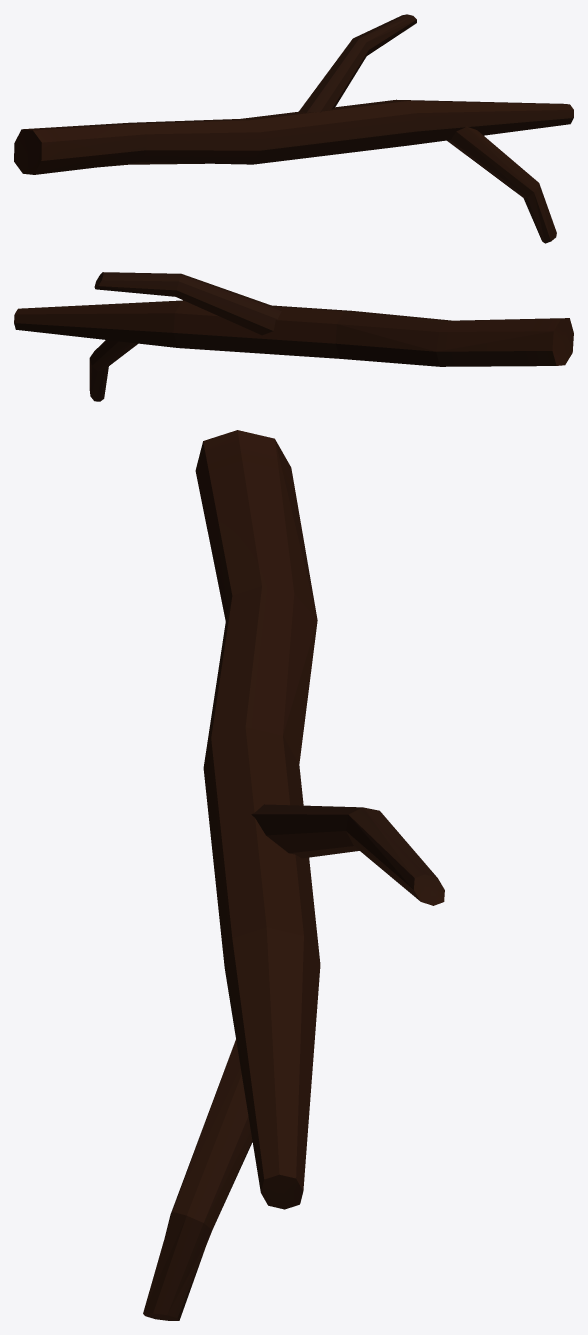
File: MOD STICKRIGHT..fbx
3 views of the same model, one above another, from view 1: azimuth 30°, elevation 25°; view 2: azimuth 150°, elevation 25°; view 3: azimuth 270°, elevation 25° (orthographic). The views are drawn at different scales.
Visible parts, largest first — view 1: MOD_STICKRIGHT_; view 2: MOD_STICKRIGHT_; view 3: MOD_STICKRIGHT_.
Part boxes in pixels (bbox=[...]): MOD_STICKRIGHT_: bbox=[14, 14, 573, 243]; MOD_STICKRIGHT_: bbox=[14, 272, 573, 401]; MOD_STICKRIGHT_: bbox=[143, 430, 444, 1320].
Size of the model in its own units: 41.57 by 15.61 by 10.07.
